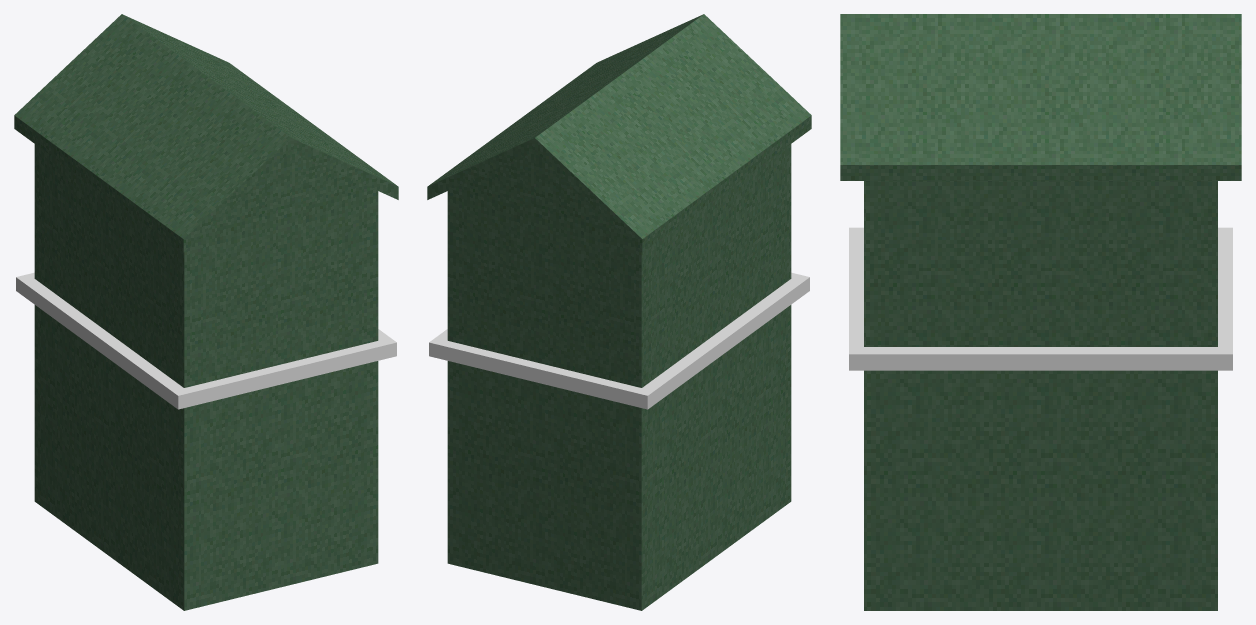
Rendered from TallHouse.fbx.
3 views of the same model, side by side, from view 1: azimuth 30°, elevation 25°; view 2: azimuth 150°, elevation 25°; view 3: azimuth 270°, elevation 25° (orthographic). The views are drawn at different scales.
Visible parts, largest first — view 1: TallHouse; view 2: TallHouse; view 3: TallHouse.
Part boxes in pixels (box(x1,y1,x2,y2)): TallHouse: box(14, 14, 398, 610); TallHouse: box(427, 14, 811, 610); TallHouse: box(840, 14, 1241, 610).
Bounding box in the file's own units: 3.38 × 4.54 × 6.75.
